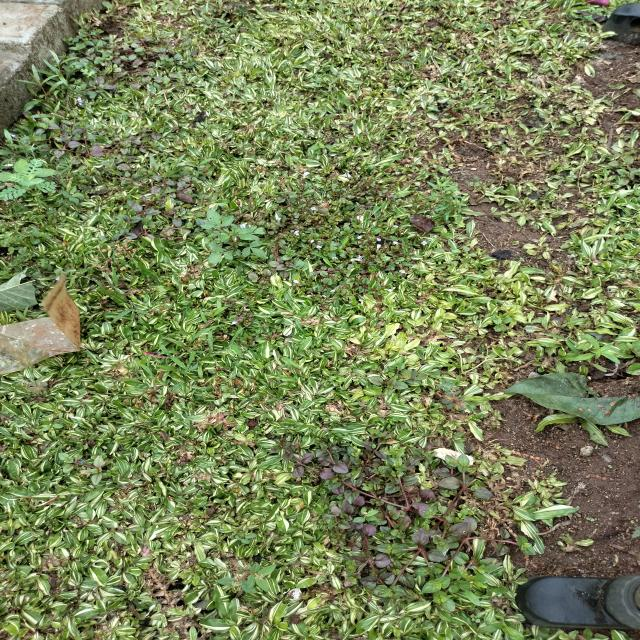akar wangi: (421, 176, 470, 223)
bayi: (469, 613, 482, 624), (585, 515, 595, 523)
buah daun: (0, 161, 58, 203), (439, 375, 472, 413)
daun tiga: (200, 208, 268, 267)
gingseng jawa: (15, 62, 67, 112)
rambat atas: (170, 323, 223, 352), (546, 315, 582, 357), (158, 340, 191, 372), (220, 326, 248, 358), (101, 266, 127, 295), (110, 308, 154, 325), (115, 365, 156, 382), (199, 304, 232, 320)
tunggang tengah: (216, 559, 278, 598), (58, 187, 85, 205), (232, 530, 260, 545)
ungu tunggang: (269, 433, 526, 606), (263, 162, 426, 304), (60, 22, 197, 104), (113, 167, 203, 246), (36, 116, 166, 168), (56, 450, 109, 488), (361, 372, 411, 393), (491, 310, 526, 338)
